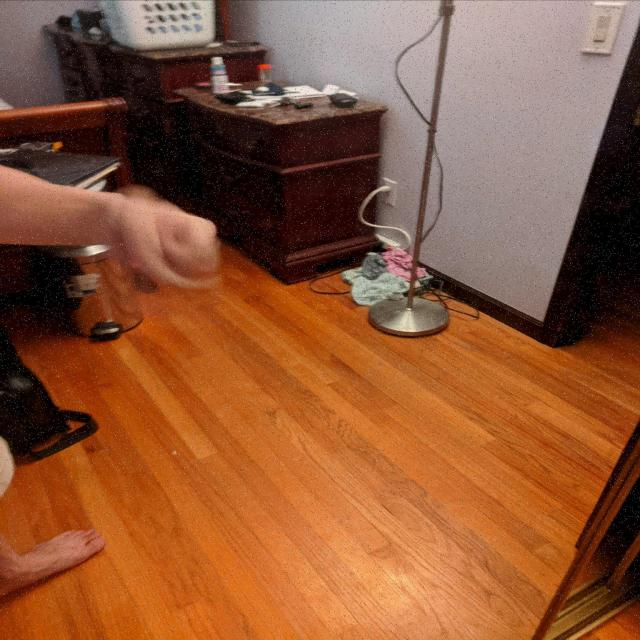J: (82, 178, 248, 346)
